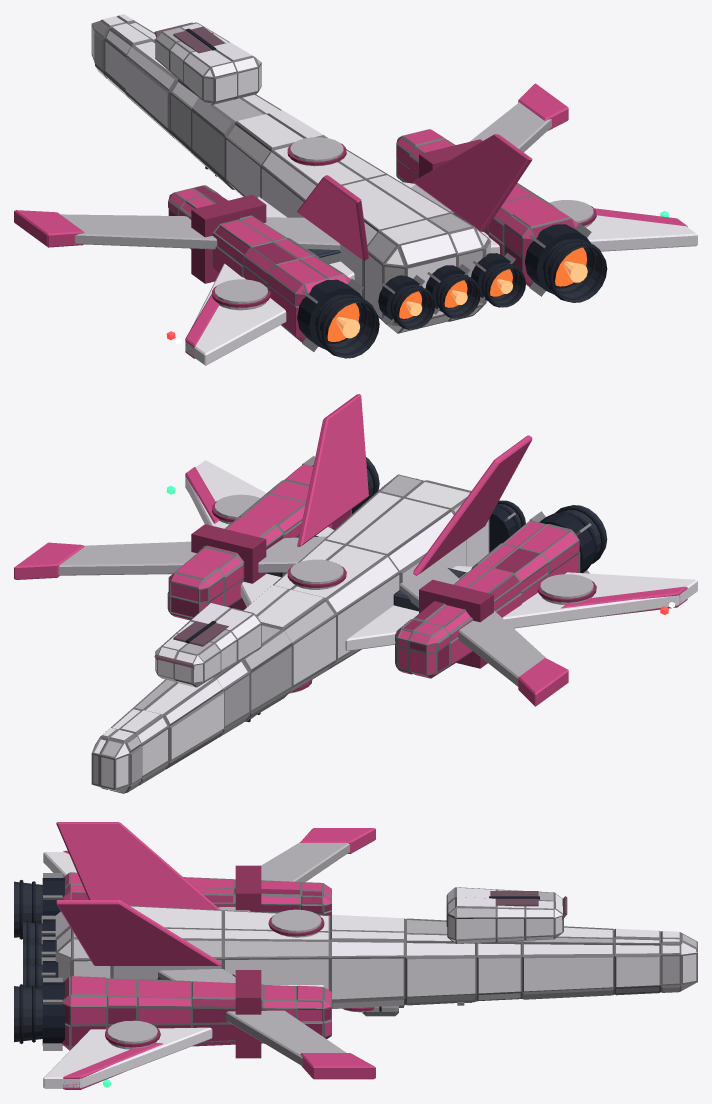
File: valkyrie.glb
3 renders of one model, top to bottom at view 1: azimuth 30°, elevation 25°; view 2: azimuth 150°, elevation 25°; view 3: azimuth 270°, elevation 25°, orthographic. The views are drawn at different scales.
Visible parts, largest first — view 1: valkyrie_mesh; view 2: valkyrie_mesh; view 3: valkyrie_mesh.
Boxes of the visible parts, x1,y1,x2,y2 form: valkyrie_mesh: (14, 14, 697, 365); valkyrie_mesh: (14, 394, 697, 793); valkyrie_mesh: (14, 822, 697, 1089).
Size of the model in its own units: 15.87 by 4.61 by 19.17.
